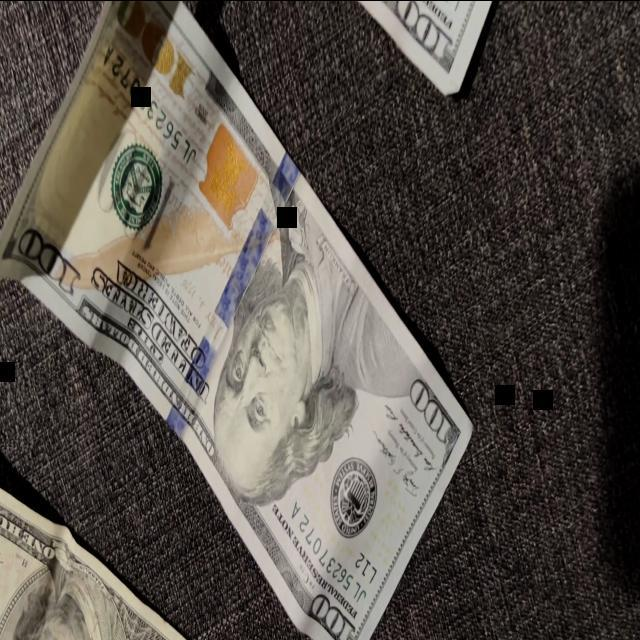hundred: (0, 0, 475, 640), (0, 479, 197, 640), (350, 0, 496, 100)
